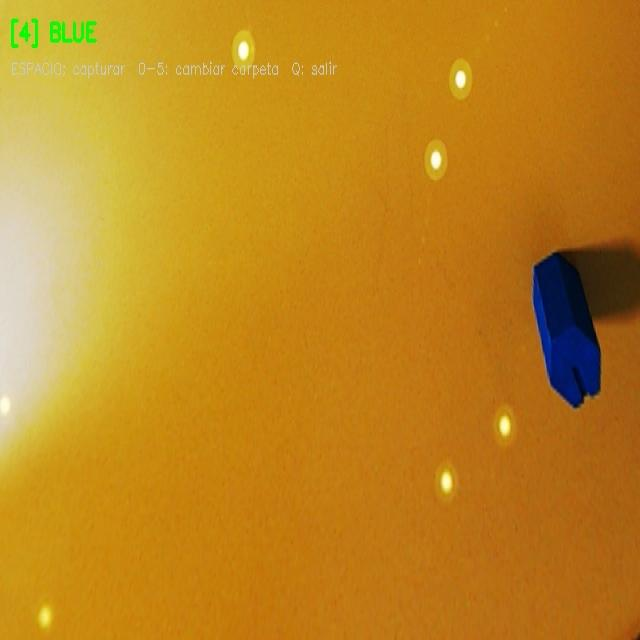blue: (533, 252, 600, 408)
